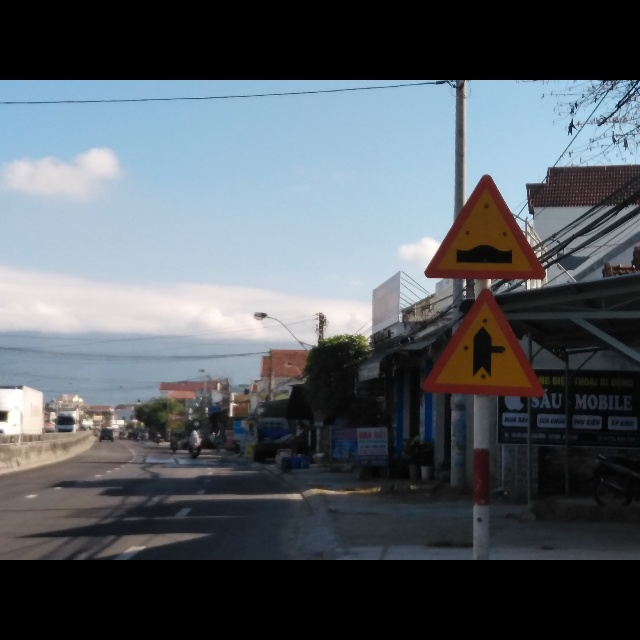Giao nhau với đường không ưu tiên: (420, 290, 547, 394)
Đường không bằng phẳng: (422, 169, 551, 278)
